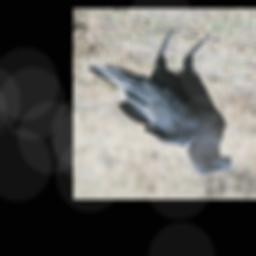Crow: (88, 28, 235, 175)
